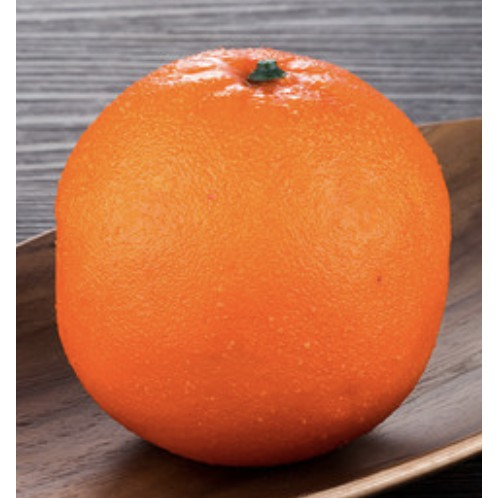orange: (48, 40, 459, 468)
